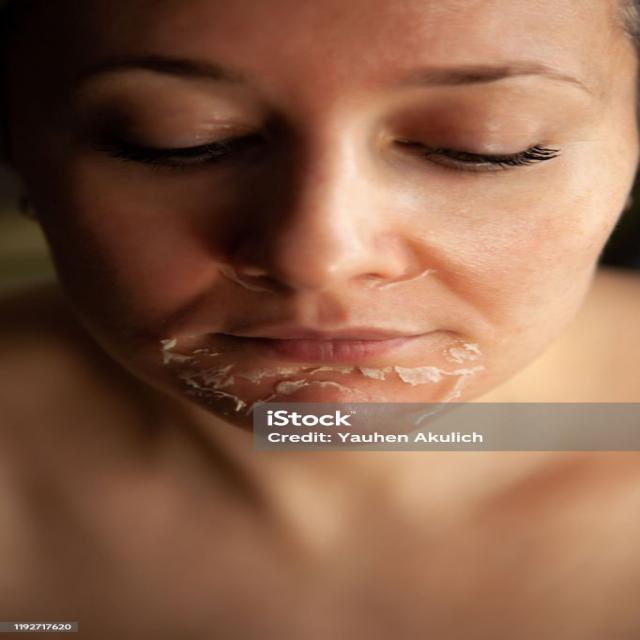Dry-Skin: (151, 322, 540, 438), (148, 255, 298, 326), (345, 255, 463, 322)
